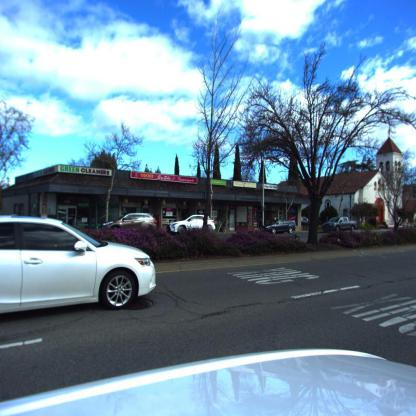car: (1, 216, 160, 327), (99, 213, 157, 229), (167, 215, 217, 233), (322, 216, 358, 232), (266, 220, 296, 234), (302, 217, 310, 228)
